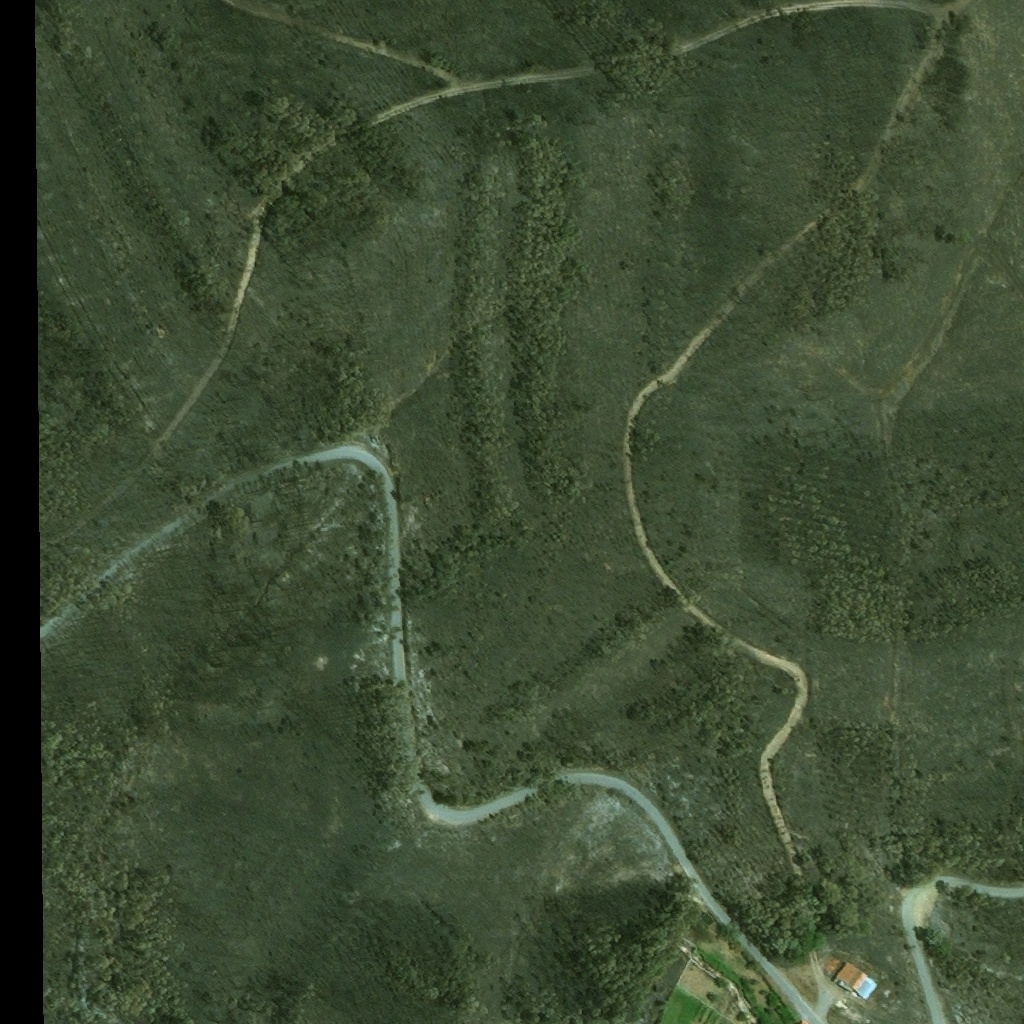0 no-damage: (831, 960, 877, 1003)
